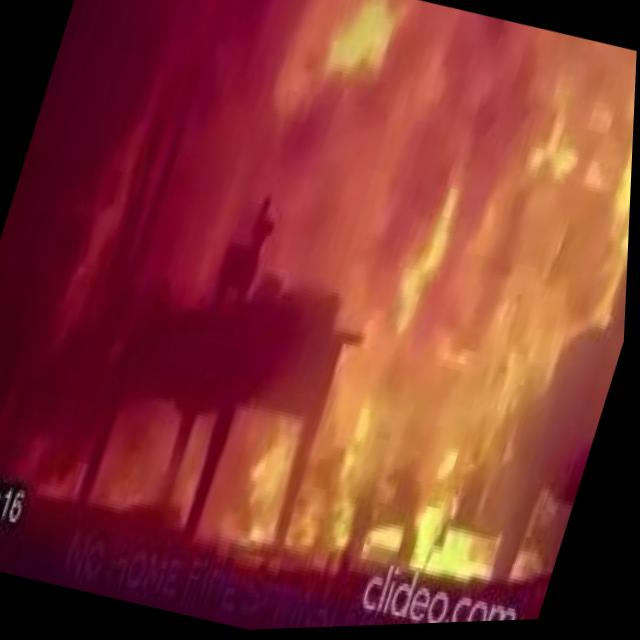fire: (290, 4, 639, 604), (187, 0, 445, 242), (45, 102, 159, 359), (205, 413, 305, 550), (0, 398, 112, 518), (95, 400, 188, 520), (171, 419, 216, 519)
